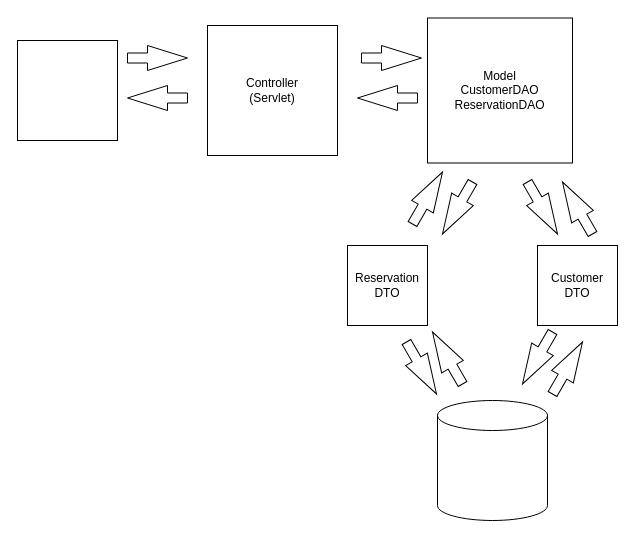
Image size: 635x538. Some labels were removed from this diagram. Here are the shapes that lost their labels. From the top down, the box of each, then its label:
(16, 40, 118, 140): View (html,jsp)
(436, 400, 548, 520): DB
